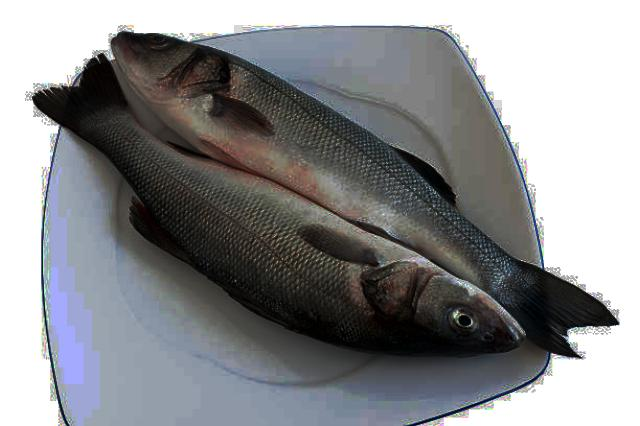Healthy Fish: (33, 32, 618, 358)
